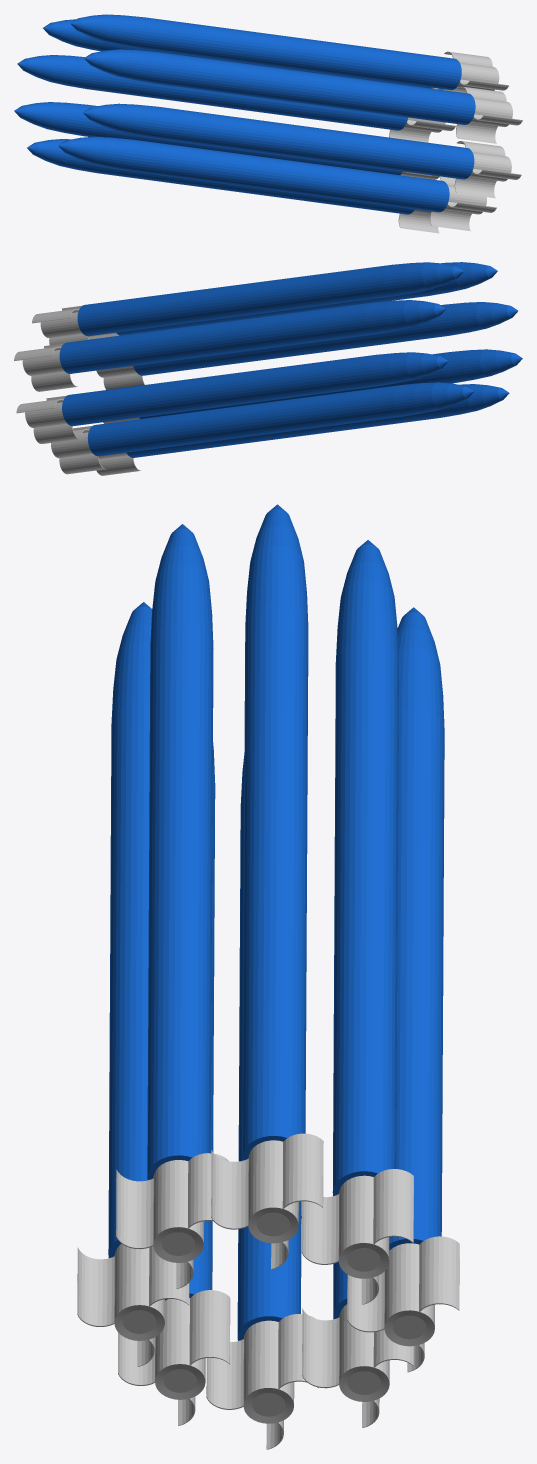
File: RocketProp.fbx
The picture shows the model from 3 angles, top to bottom: view 1: azimuth 30°, elevation 25°; view 2: azimuth 150°, elevation 25°; view 3: azimuth 270°, elevation 25°; orthographic projection. The views are drawn at different scales.
Parts seen in each view (by area): view 1: Cylinder.006_Cylinder.005, Cylinder.006_Cylinder.006, Cylinder.006_Cylinder.004, Cylinder.006_Cylinder.011, Cylinder.003_Cylinder.001, Cylinder.006_Cylinder.002, Cylinder.006_Cylinder.003, Cylinder.002_Cylinder.006, Cylinder.002_Cylinder.007, Cylinder.002_Cylinder.005, Cylinder.006_Cylinder.000, Cylinder.002_Cylinder.004 (+2 smaller); view 2: Cylinder.006_Cylinder.011, Cylinder.006_Cylinder.000, Cylinder.003_Cylinder.001, Cylinder.006_Cylinder.002, Cylinder.006_Cylinder.005, Cylinder.006_Cylinder.003, Cylinder.006_Cylinder.004, Cylinder.006_Cylinder.006, Cylinder.002_Cylinder.000, Cylinder.002_Cylinder.001, Cylinder.002_Cylinder.002, Cylinder.002_Cylinder.004 (+2 smaller); view 3: Cylinder.006_Cylinder.000, Cylinder.006_Cylinder.006, Cylinder.006_Cylinder.011, Cylinder.003_Cylinder.001, Cylinder.006_Cylinder.005, Cylinder.002_Cylinder.004, Cylinder.002_Cylinder.000, Cylinder.002_Cylinder.001, Cylinder.002_Cylinder.007, Cylinder.002_Cylinder.006, Cylinder.002_Cylinder.003, Cylinder.002_Cylinder.005 (+3 smaller).
Part boxes in pixels (x1,y1,x2,y2): Cylinder.006_Cylinder.005: [83, 103, 474, 179]; Cylinder.006_Cylinder.006: [84, 49, 475, 124]; Cylinder.006_Cylinder.004: [58, 136, 449, 212]; Cylinder.006_Cylinder.011: [70, 14, 461, 90]; Cylinder.003_Cylinder.001: [17, 55, 407, 130]; Cylinder.006_Cylinder.002: [14, 102, 402, 174]; Cylinder.006_Cylinder.003: [27, 139, 414, 214]; Cylinder.002_Cylinder.006: [454, 141, 521, 198]; Cylinder.002_Cylinder.007: [456, 86, 522, 143]; Cylinder.002_Cylinder.005: [430, 175, 496, 231]; Cylinder.006_Cylinder.000: [43, 19, 431, 88]; Cylinder.002_Cylinder.004: [443, 51, 508, 93]; Cylinder.006_Cylinder.011: [77, 262, 463, 336]; Cylinder.006_Cylinder.000: [59, 300, 445, 373]; Cylinder.003_Cylinder.001: [62, 352, 448, 426]; Cylinder.006_Cylinder.002: [87, 382, 474, 456]; Cylinder.006_Cylinder.005: [133, 302, 518, 375]; Cylinder.006_Cylinder.003: [126, 384, 509, 457]; Cylinder.006_Cylinder.004: [139, 349, 522, 418]; Cylinder.006_Cylinder.006: [116, 262, 497, 335]; Cylinder.002_Cylinder.000: [14, 343, 77, 391]; Cylinder.002_Cylinder.001: [16, 395, 80, 443]; Cylinder.002_Cylinder.002: [51, 426, 105, 474]; Cylinder.002_Cylinder.004: [32, 306, 88, 345]; Cylinder.006_Cylinder.000: [332, 540, 398, 1195]; Cylinder.006_Cylinder.006: [147, 524, 213, 1179]; Cylinder.006_Cylinder.011: [242, 504, 308, 1160]; Cylinder.003_Cylinder.001: [389, 607, 444, 1250]; Cylinder.006_Cylinder.005: [108, 602, 152, 1257]; Cylinder.002_Cylinder.004: [211, 1133, 323, 1269]; Cylinder.002_Cylinder.000: [301, 1169, 413, 1304]; Cylinder.002_Cylinder.001: [347, 1236, 459, 1372]; Cylinder.002_Cylinder.007: [116, 1153, 228, 1288]; Cylinder.002_Cylinder.006: [77, 1243, 189, 1366]; Cylinder.002_Cylinder.003: [206, 1314, 318, 1449]; Cylinder.002_Cylinder.005: [118, 1290, 230, 1425].
Size of the model in its own units: 1505 by 917 by 534.
